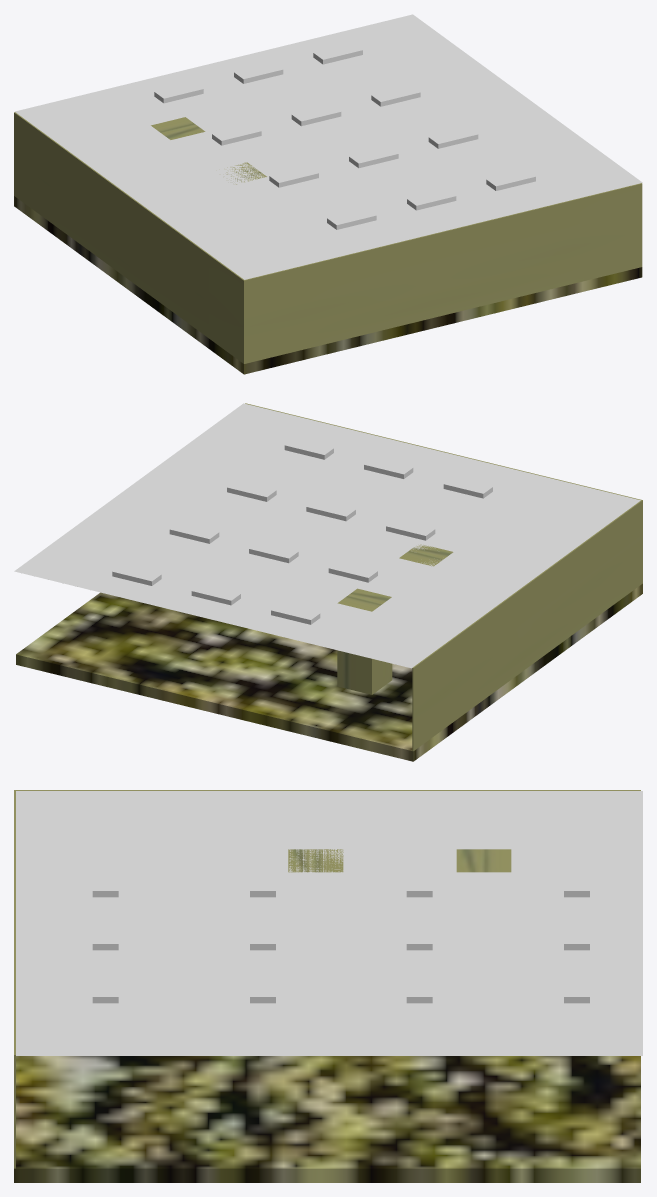
The model's file is BackroomsLevelZero - 16.fbx.
The picture shows the model from 3 angles, top to bottom: view 1: azimuth 30°, elevation 25°; view 2: azimuth 150°, elevation 25°; view 3: azimuth 270°, elevation 25°; orthographic projection. The views are drawn at different scales.
Parts seen in each view (by area): view 1: Floor.035, Wall.051, Wall.050, Floor.019, Cube.090, Cube.241, Cube.231, Cube.217, Cube.218, Cube.225, Cube.226, Cube.233 (+5 smaller); view 2: Floor.035, Floor.019, Wall.050, Cube.090, Cube.089, Cube.234, Cube.218, Cube.226, Cube.241, Cube.225, Cube.228, Cube.231 (+6 smaller); view 3: Floor.035, Floor.019, Cube.090, Cube.089, Cube.218, Cube.226, Cube.231, Cube.234, Cube.239, Cube.242, Cube.217, Cube.225 (+6 smaller).
Part boxes in pixels (bbox=[...]): Floor.035: bbox=[15, 14, 642, 279]; Wall.051: bbox=[243, 183, 642, 363]; Wall.050: bbox=[14, 112, 244, 363]; Floor.019: bbox=[14, 196, 642, 374]; Cube.090: bbox=[151, 117, 205, 139]; Cube.241: bbox=[428, 127, 478, 148]; Cube.231: bbox=[291, 105, 341, 126]; Cube.217: bbox=[154, 82, 203, 103]; Cube.218: bbox=[212, 124, 261, 145]; Cube.225: bbox=[269, 166, 318, 187]; Cube.226: bbox=[327, 208, 376, 229]; Cube.233: bbox=[313, 43, 362, 64]; Floor.035: bbox=[14, 403, 640, 668]; Floor.019: bbox=[16, 583, 642, 761]; Wall.050: bbox=[412, 500, 642, 751]; Cube.090: bbox=[337, 588, 392, 694]; Cube.089: bbox=[399, 544, 453, 566]; Cube.234: bbox=[169, 522, 219, 543]; Cube.218: bbox=[328, 561, 377, 582]; Cube.226: bbox=[443, 477, 492, 498]; Cube.241: bbox=[227, 480, 276, 501]; Cube.225: bbox=[386, 519, 435, 540]; Cube.228: bbox=[191, 584, 240, 605]; Cube.231: bbox=[249, 542, 298, 563]; Floor.035: bbox=[16, 791, 642, 1055]; Floor.019: bbox=[14, 1056, 640, 1182]; Cube.090: bbox=[456, 849, 511, 872]; Cube.089: bbox=[288, 849, 343, 872]; Cube.218: bbox=[406, 864, 432, 897]; Cube.226: bbox=[92, 864, 118, 897]; Cube.231: bbox=[406, 917, 432, 950]; Cube.234: bbox=[406, 970, 432, 1003]; Cube.239: bbox=[92, 917, 118, 950]; Cube.242: bbox=[92, 970, 118, 1003]; Cube.217: bbox=[564, 864, 589, 897]; Cube.225: bbox=[250, 864, 275, 897].
Size of the model in its own units: 4012 by 946 by 4012.
